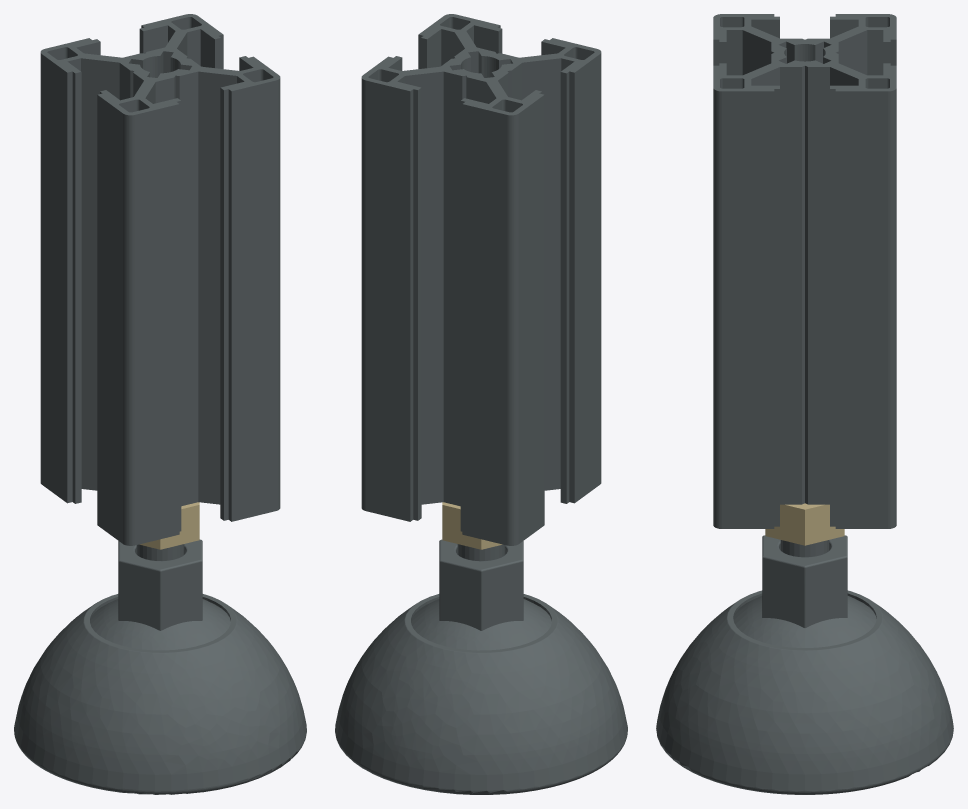
Rendered from foot-detail.glb.
3 views of the same model, side by side, from view 1: azimuth 30°, elevation 25°; view 2: azimuth 150°, elevation 25°; view 3: azimuth 270°, elevation 25° (orthographic).
Visible parts, largest first — view 1: Post-4-23, Levelling-foot-D49M8H30-4-23, Foot-locknut-M8-4-23; view 2: Post-4-23, Levelling-foot-D49M8H30-4-23, Foot-locknut-M8-4-23; view 3: Post-4-23, Levelling-foot-D49M8H30-4-23, Foot-locknut-M8-4-23.
Boxes of the visible parts, <box> form: Post-4-23: <box>40,14,280,545</box>; Levelling-foot-D49M8H30-4-23: <box>14,539,306,794</box>; Foot-locknut-M8-4-23: <box>139,502,199,549</box>; Post-4-23: <box>361,14,601,545</box>; Levelling-foot-D49M8H30-4-23: <box>335,539,627,794</box>; Foot-locknut-M8-4-23: <box>442,502,502,549</box>; Post-4-23: <box>713,14,896,528</box>; Levelling-foot-D49M8H30-4-23: <box>656,535,953,794</box>; Foot-locknut-M8-4-23: <box>765,503,844,545</box>.
Bounding box in the file's own units: 0.0487 × 0.123 × 0.0487.
